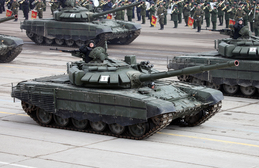t72: (14, 51, 241, 142)
